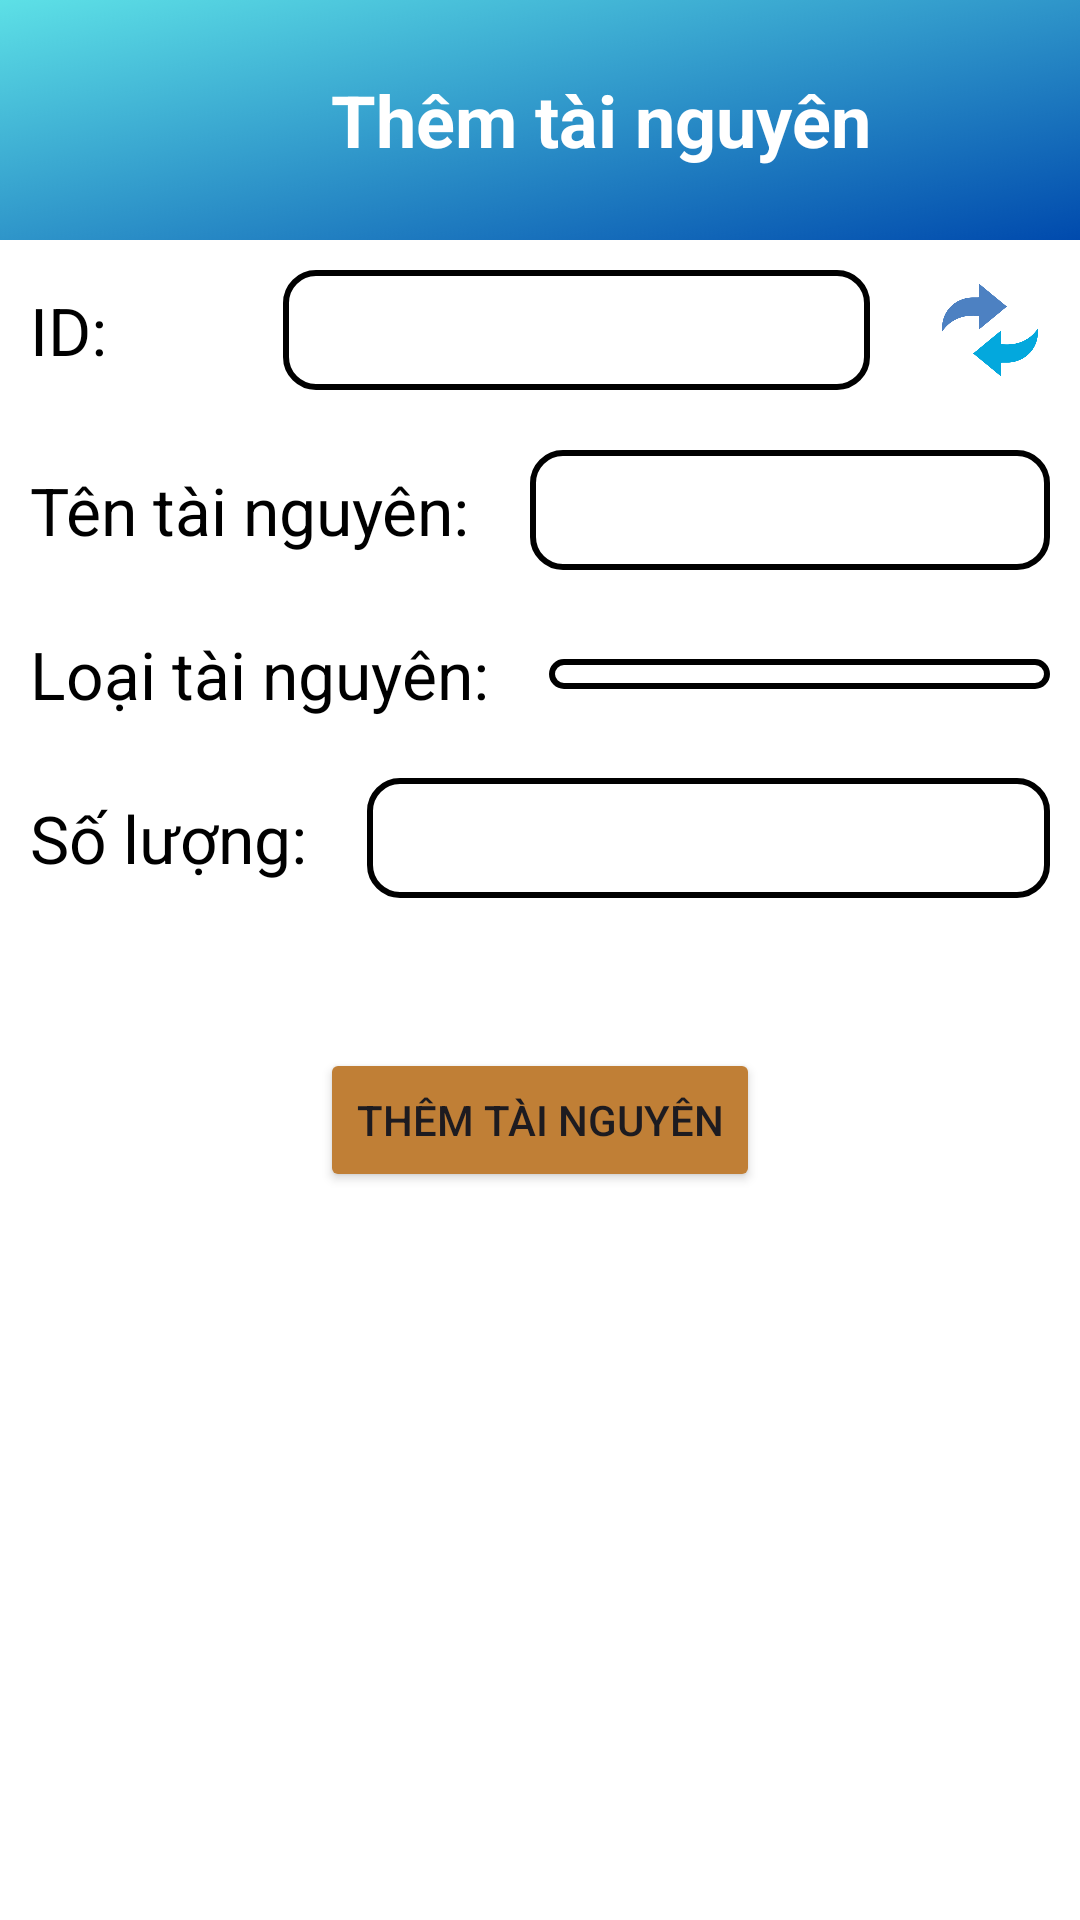

Screen size 1080px×1920px. Icon name, then its box in pixels as bbox=[x1, y1, x2, y2]:
swap: bbox=[942, 284, 1038, 376]
